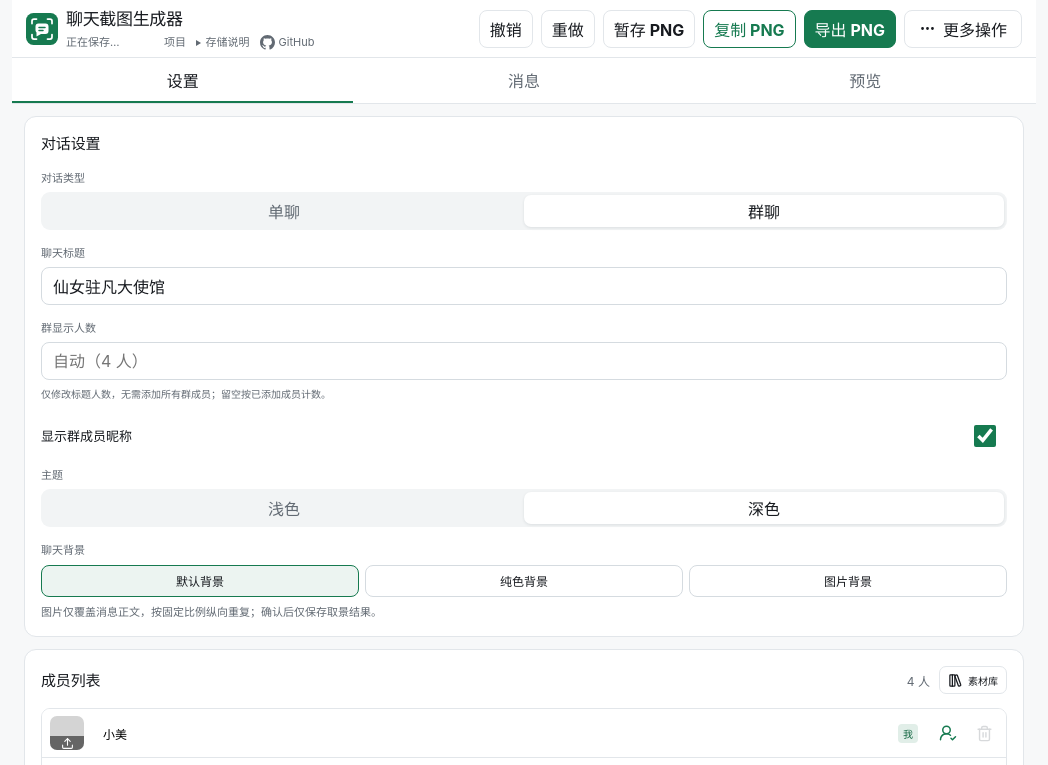
it: App PNG clipboard delivery › does not render or download when image clipboard support is absent
Click the button "复制 PNG" at (749, 28), box [703,10,796,48]
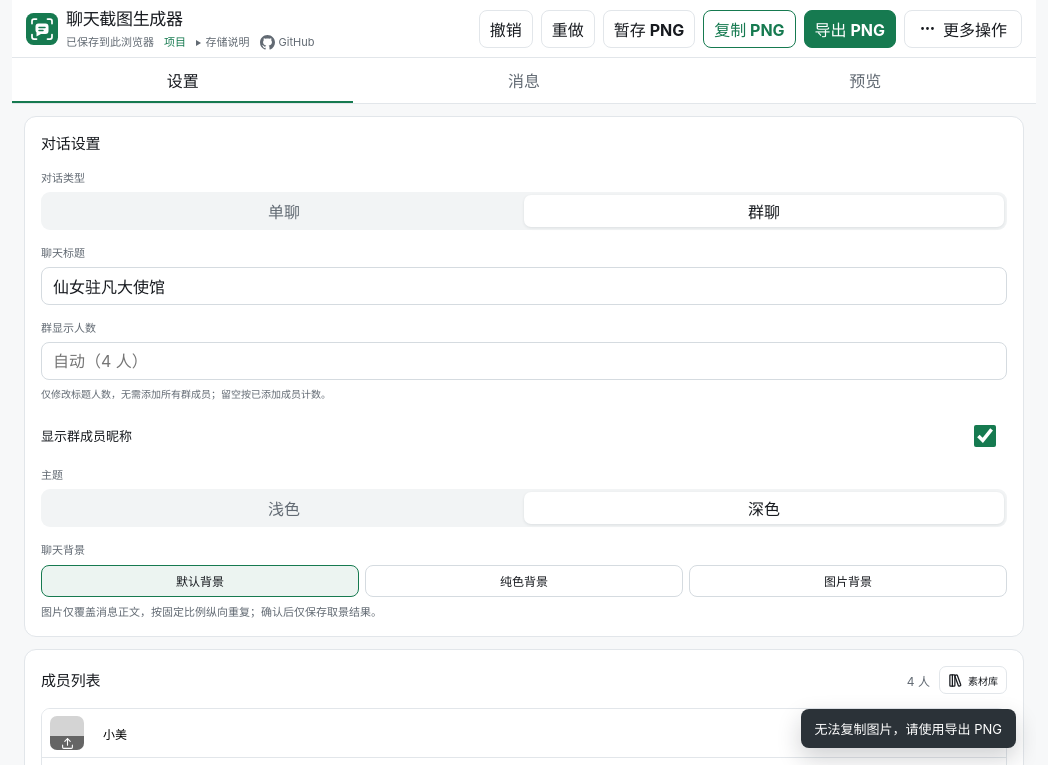
Expected: the button "导出 PNG" is enabled, [804,10,896,48]
Expected: the text "无法复制图片，请使用导出 PNG" is shown, [800,709,1016,748]
